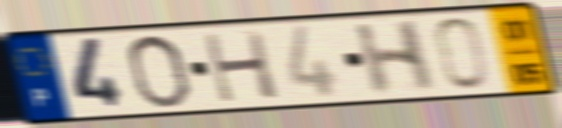0: (430, 14, 496, 94)
4: (68, 34, 132, 115), (286, 22, 345, 103)
H: (351, 17, 438, 99), (199, 28, 283, 106)
O: (123, 32, 194, 111)
